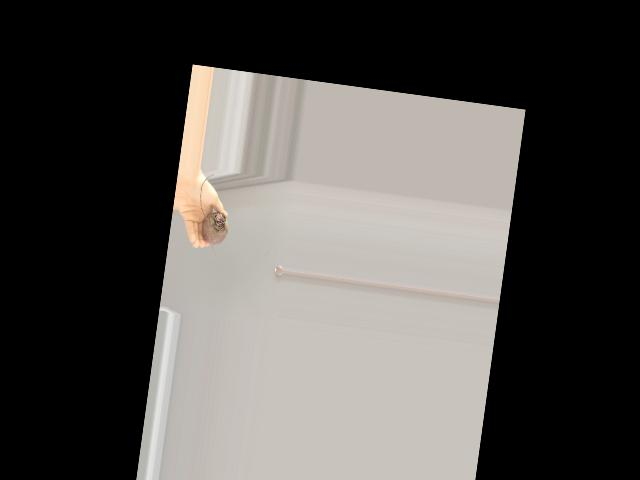beet: (191, 173, 234, 255)
